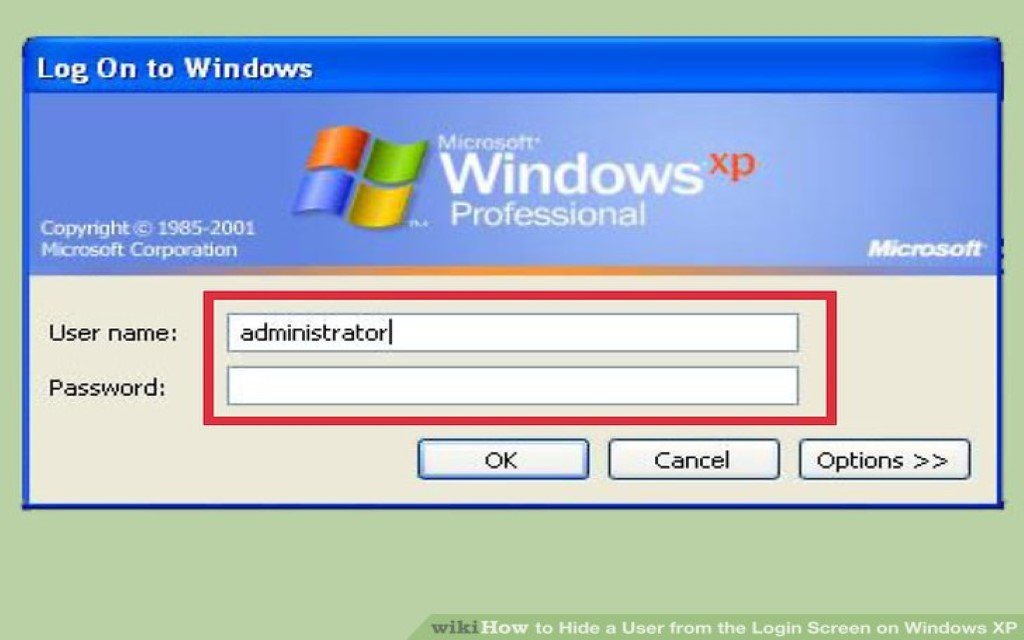button: (417, 438, 588, 481), (607, 440, 782, 477), (801, 442, 970, 479)
label_Username: (48, 318, 173, 348), (47, 376, 163, 402)
textbox: (229, 313, 800, 352), (227, 368, 799, 406)
textbox_Password: (228, 366, 801, 409)
textbox_username: (226, 315, 802, 356)
